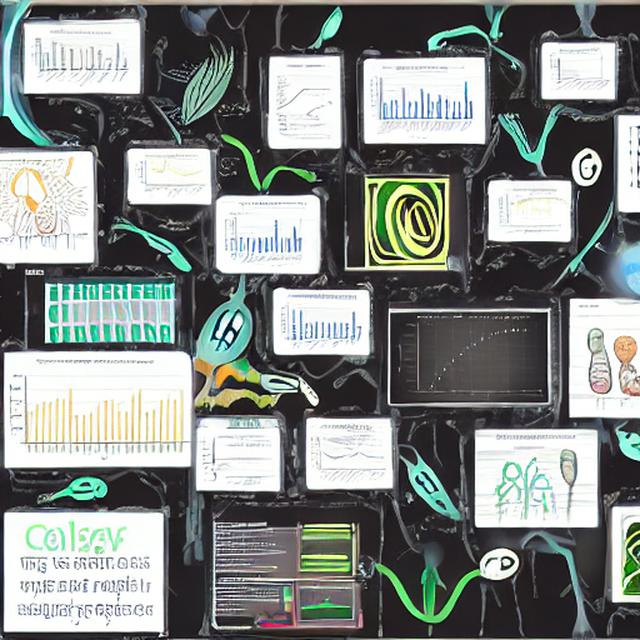Graph: (5, 358, 189, 462), (396, 314, 548, 403), (366, 64, 477, 142), (26, 28, 134, 91), (310, 441, 388, 486), (133, 153, 205, 200)
